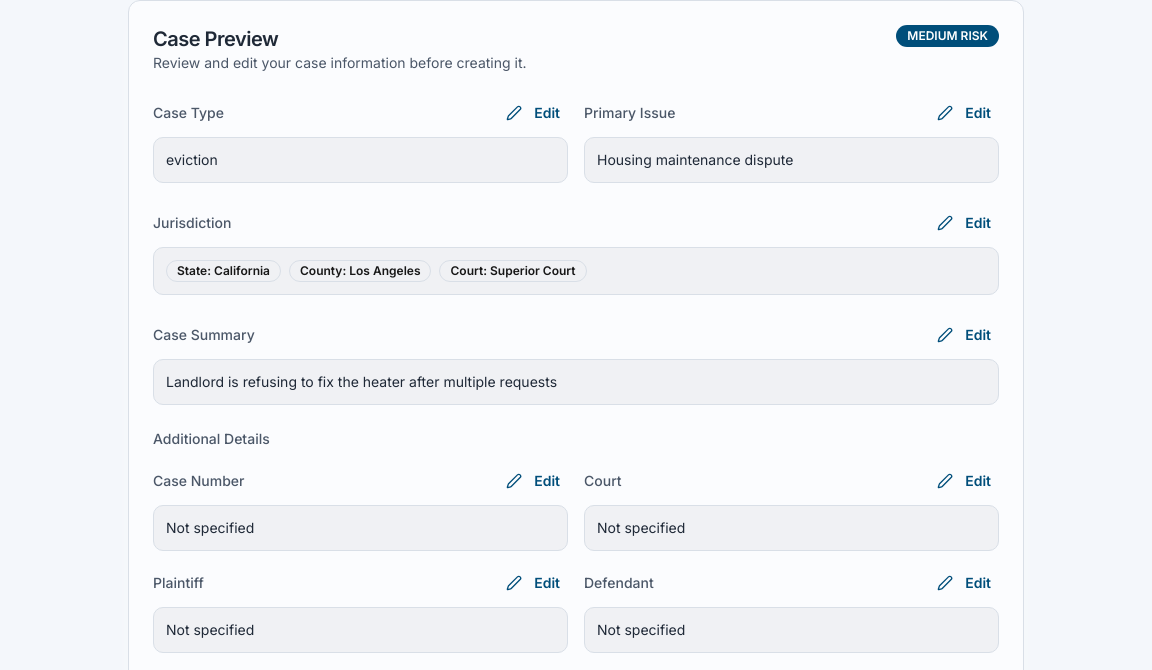
CasePreviewCard › handles jurisdiction editing correctly
Click the button "Edit" in the row of "Jurisdiction". click: (964, 223)
box: [929, 207, 999, 239]
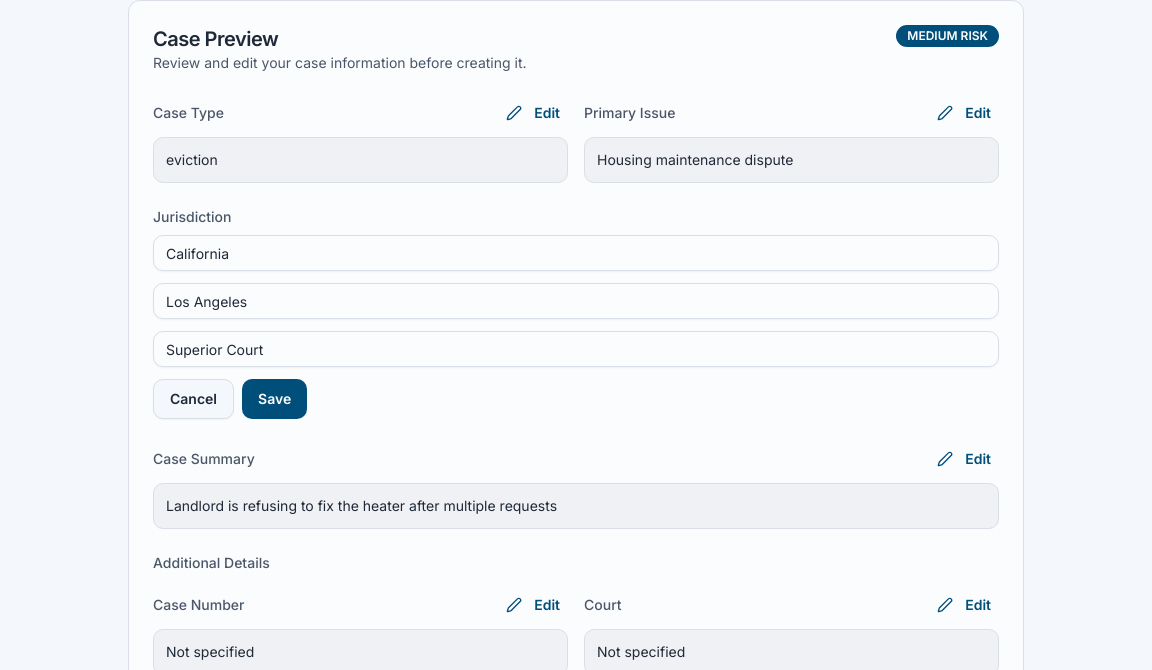
Check: the 1st field with placeholder "State (e.g., California)" is shown, box [153, 235, 999, 271]
Check: the 2nd field with placeholder "County (e.g., Los Angeles)" is shown, box [153, 283, 999, 319]
Check: the 3rd field with placeholder "Court Level (e.g., Superior Court)" is shown, box [153, 331, 999, 367]
